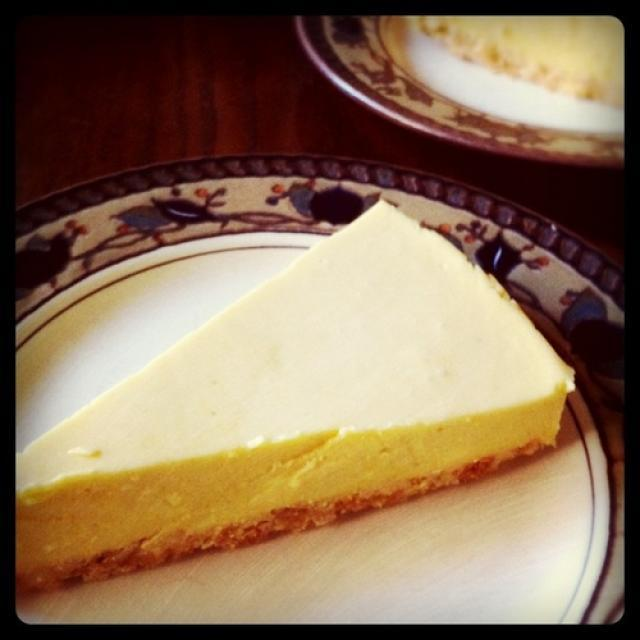Rare cheese cake: (23, 188, 585, 620)
